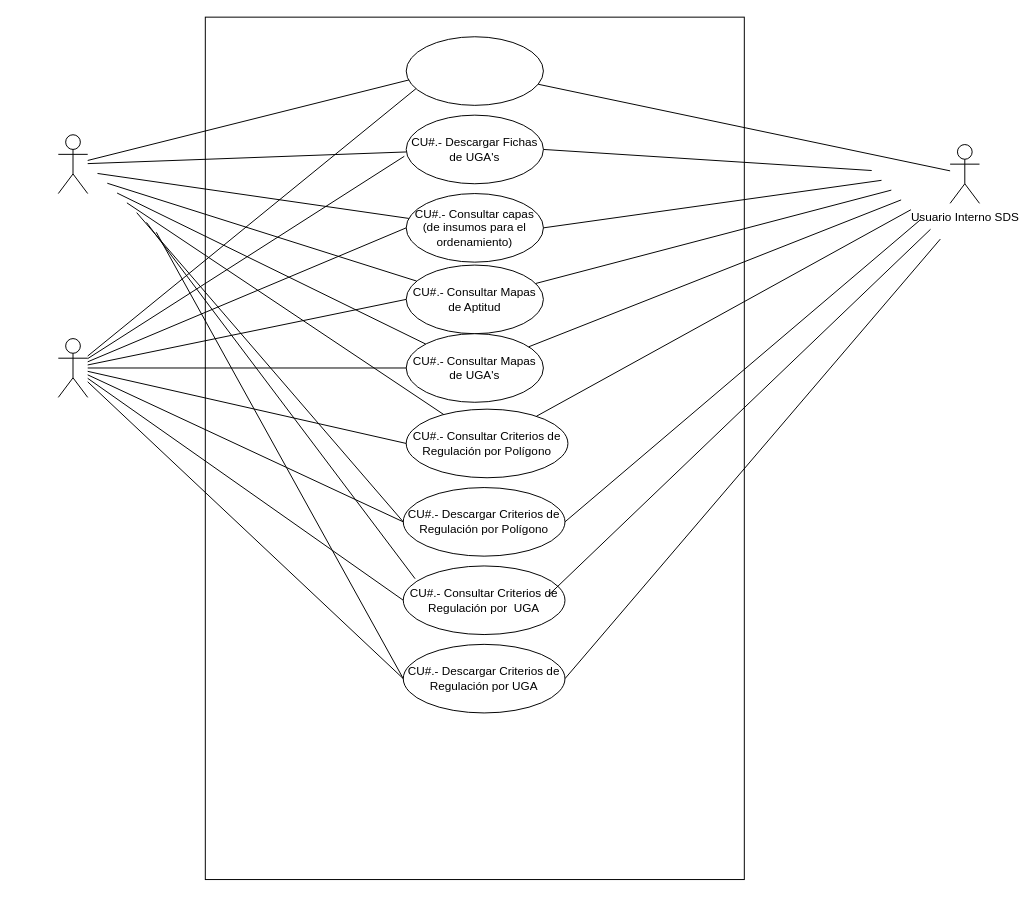
The diagram is 1036 pixels wide and 897 high, and some of its shapes have lost their labels. Each missing label, with the centre of its shape:
"Administrador" belongs at (x=72, y=367).
"CU#.- Consultar Fichas de UGA's" belongs at (x=474, y=70).
"Usuario Externo SDS" belongs at (x=72, y=164).
